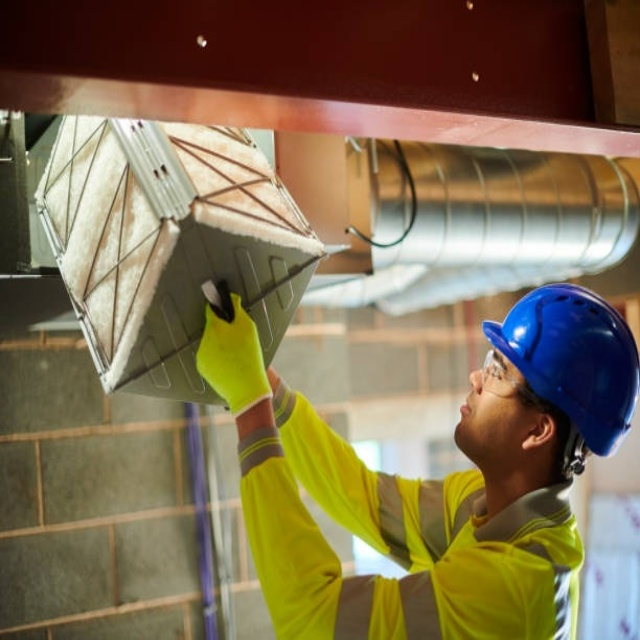Gafas: (480, 348, 547, 402)
Guantes: (196, 290, 271, 414)
Sin_mascara: (451, 388, 486, 441)
